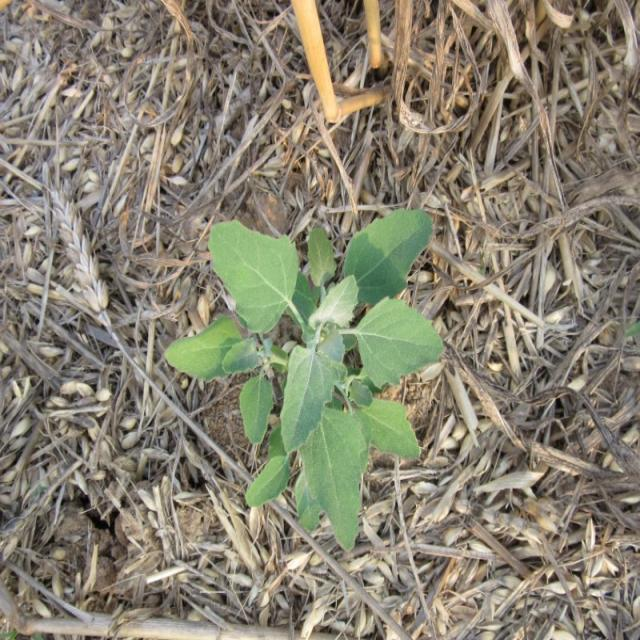ca: (168, 208, 437, 549)
